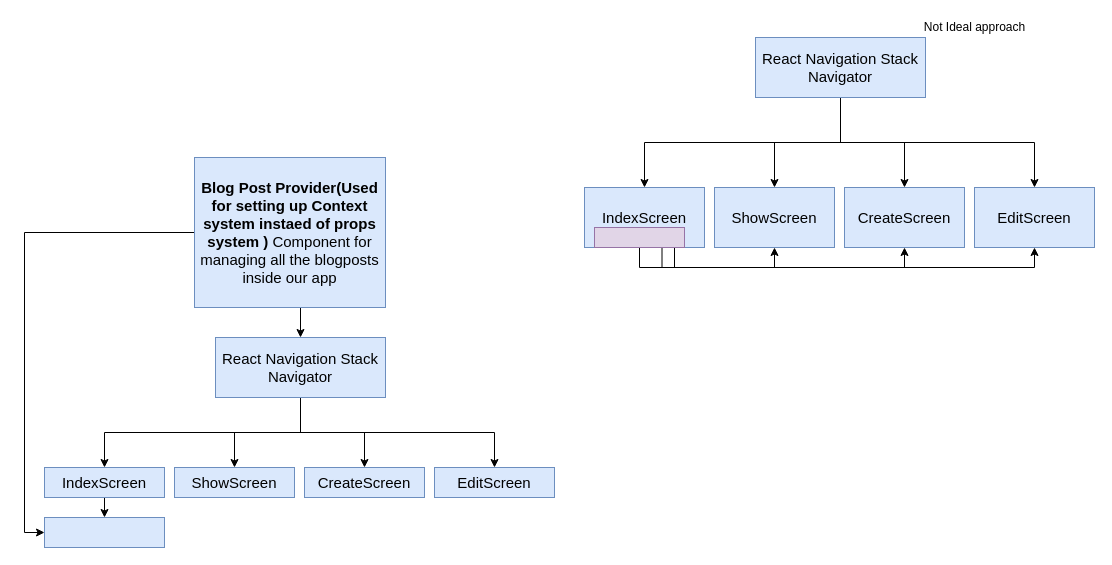
The diagram is 1112 pixels wide and 565 high, and some of its shapes have lost their labels. Here are the shapes that lost their labels. From the top down, the centre of each, then its label:
At [639,237]: "blogposts: [ ]".
At [104,532]: "BLOGLIST".
